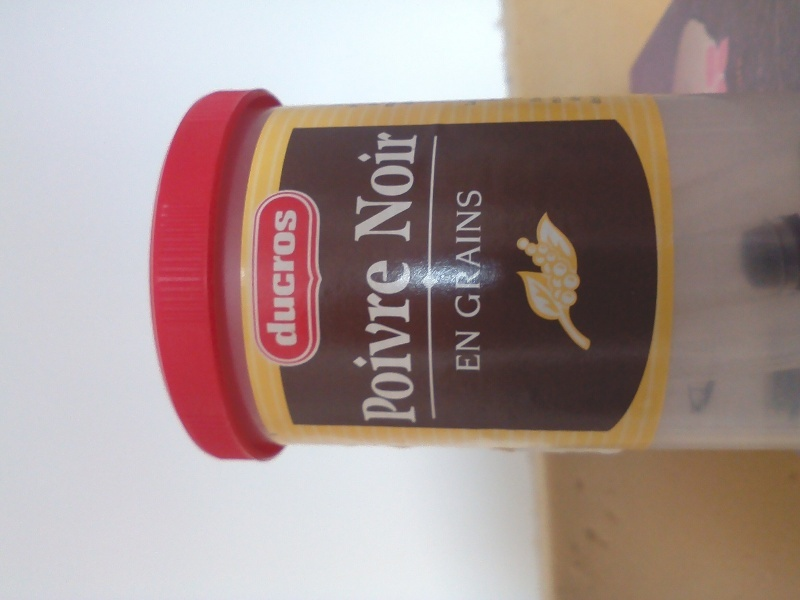text: (353, 259, 368, 429), (369, 259, 384, 429), (385, 259, 400, 429), (401, 259, 416, 429), (273, 209, 288, 349), (465, 186, 480, 321), (289, 209, 302, 349), (369, 129, 384, 243), (385, 129, 400, 243), (401, 129, 416, 243), (456, 186, 464, 321), (359, 129, 368, 243), (465, 330, 480, 372), (268, 209, 272, 349), (417, 129, 421, 243), (455, 330, 464, 372), (417, 259, 419, 429), (481, 186, 483, 321), (481, 330, 483, 372)
